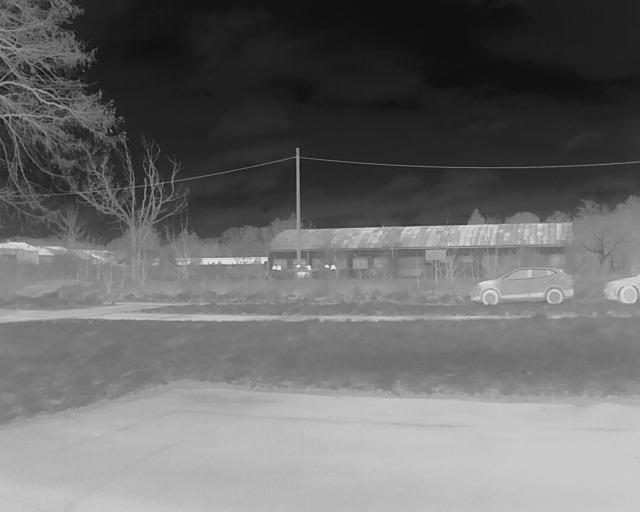drone: (268, 249, 343, 298)
